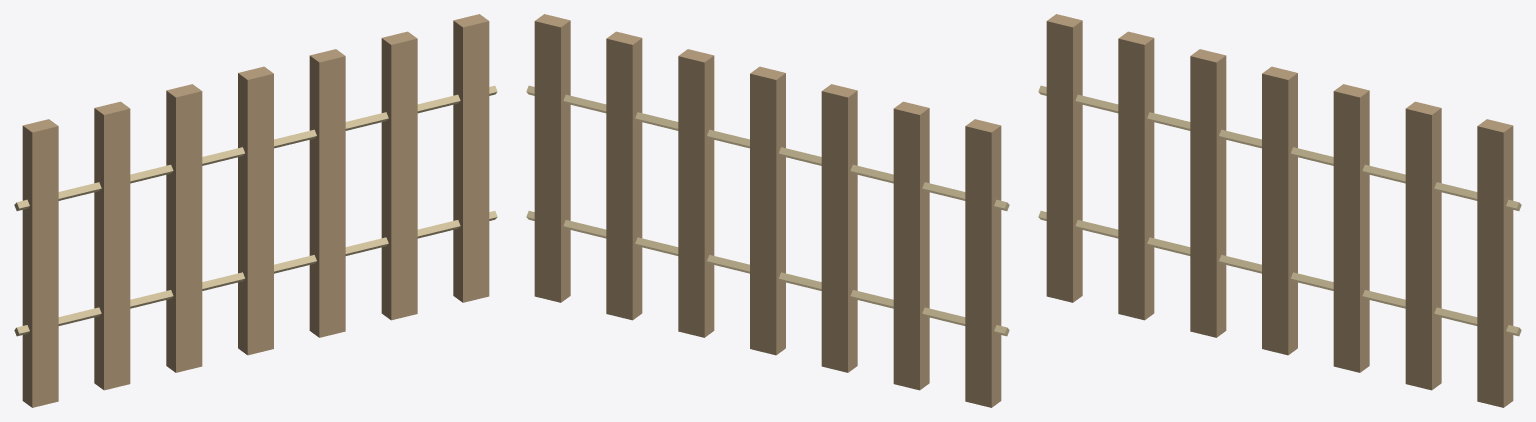
The model's file is dune_fence.glb.
3 renders of one model, left to right at view 1: azimuth 30°, elevation 25°; view 2: azimuth 150°, elevation 25°; view 3: azimuth 330°, elevation 25°, orthographic.
Parts seen in each view (by area): view 1: Slat.001, Slat.002, Slat.006, Slat.005, Slat, Slat.004, Slat.003, Tie.001, Tie; view 2: Slat.001, Slat.002, Slat.006, Slat.005, Slat, Slat.004, Slat.003, Tie.001, Tie; view 3: Slat.004, Slat.005, Slat, Slat.001, Slat.002, Slat.006, Slat.003, Tie.001, Tie.
Part boxes in pixels (x1,y1,x2,y2): Slat.001: (94, 101, 130, 390); Slat.002: (166, 84, 202, 372); Slat.006: (453, 14, 489, 302); Slat.005: (381, 31, 417, 320); Slat: (22, 119, 58, 407); Slat.004: (309, 49, 345, 337); Slat.003: (238, 66, 273, 355); Tie.001: (14, 85, 497, 210); Tie: (14, 211, 497, 336); Slat.001: (893, 101, 929, 390); Slat.002: (821, 84, 857, 372); Slat.006: (534, 14, 570, 302); Slat.005: (606, 31, 642, 320); Slat: (965, 119, 1001, 407); Slat.004: (678, 49, 714, 337); Slat.003: (750, 66, 785, 355); Tie.001: (526, 85, 1009, 210); Tie: (526, 211, 1009, 336); Slat.004: (1333, 84, 1369, 372); Slat.005: (1405, 101, 1441, 390); Slat: (1046, 14, 1082, 302); Slat.001: (1118, 31, 1154, 320); Slat.002: (1190, 49, 1226, 337); Slat.006: (1477, 119, 1513, 407); Slat.003: (1262, 66, 1297, 355); Tie.001: (1038, 85, 1521, 210); Tie: (1038, 211, 1521, 336).
Size of the model in its own units: 2 by 1.1 by 0.07.
